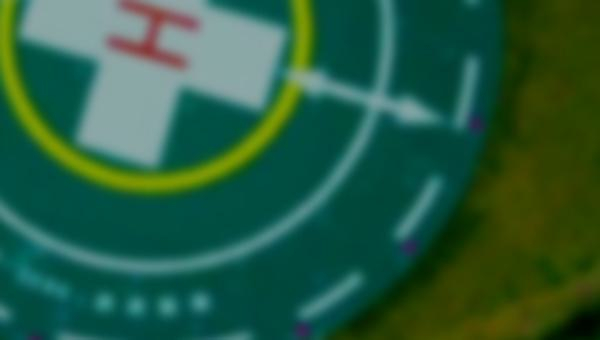Apron: (1, 1, 321, 201)
